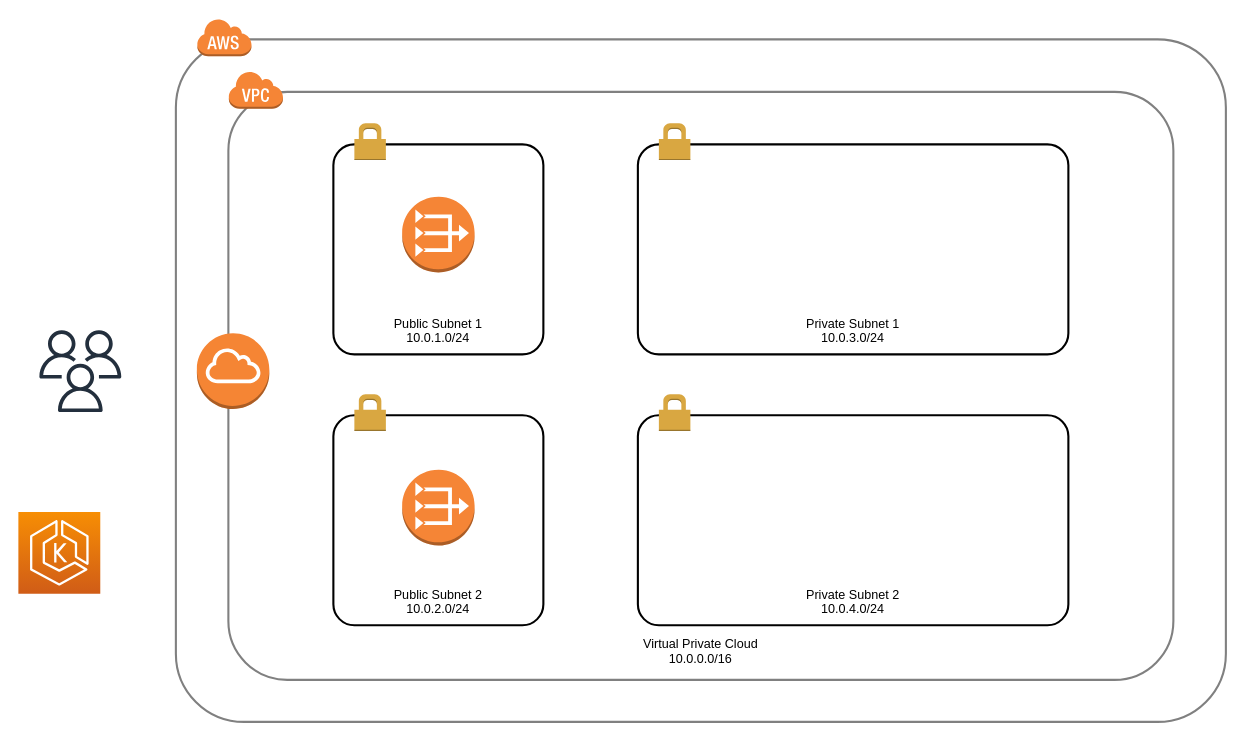
The diagram is 1245 pixels wide and 741 high, and some of its shapes have lost their labels. The centre of each missing label's shape, as x and y in pixels:
Internet Gateway: [232,370]
Users: [80,371]
